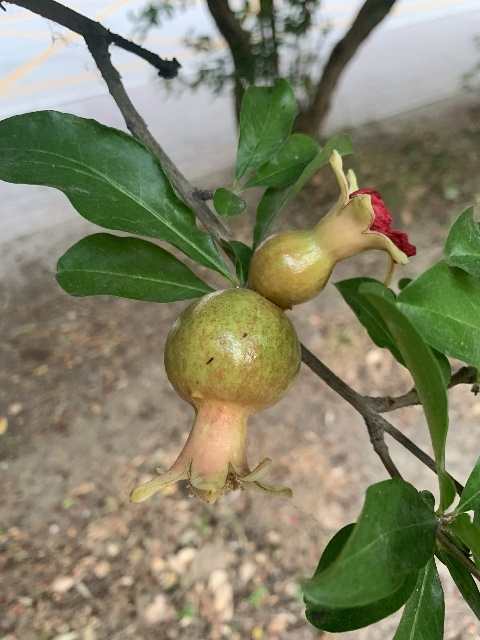early-fruit: (126, 288, 301, 508), (249, 150, 416, 309)
